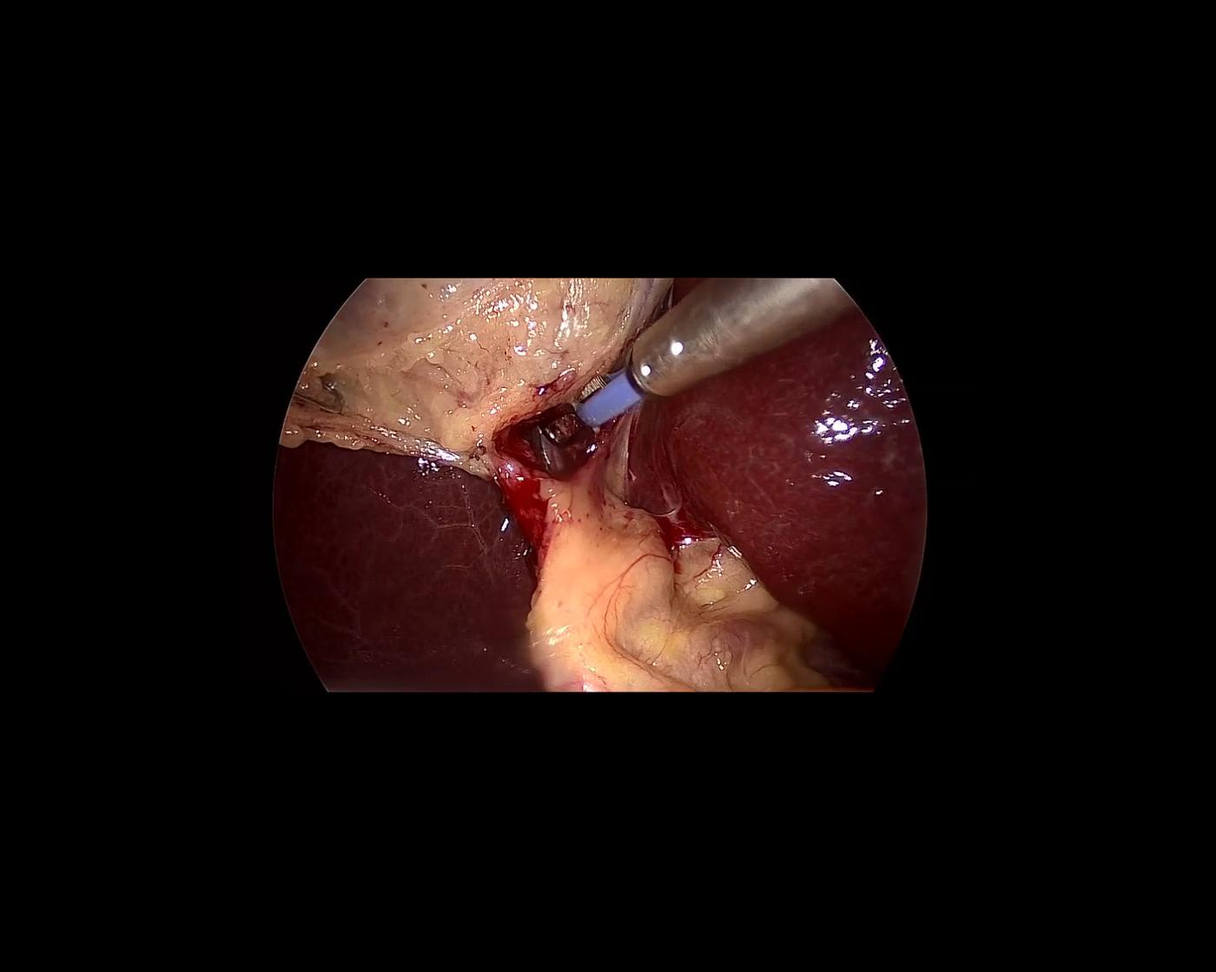Allis: (551, 234, 863, 432)
Gallbladder: (278, 279, 669, 469)
Liver: (597, 296, 1015, 737), (277, 447, 544, 693)
